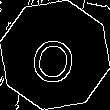O_N: (28, 25, 82, 85)
